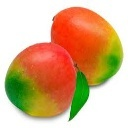mango: (5, 42, 80, 116)
